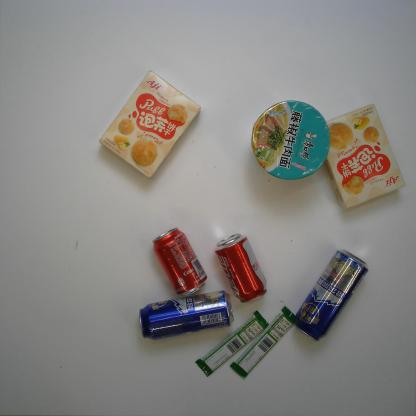Alcohol: (292, 245, 370, 344), (136, 288, 236, 342)
Chocolate: (228, 302, 298, 380), (192, 310, 270, 378)
Dessert: (96, 70, 204, 182), (315, 102, 406, 212)
Drink: (150, 225, 209, 300), (214, 230, 268, 307)
Instant Noodles: (248, 98, 330, 184)
